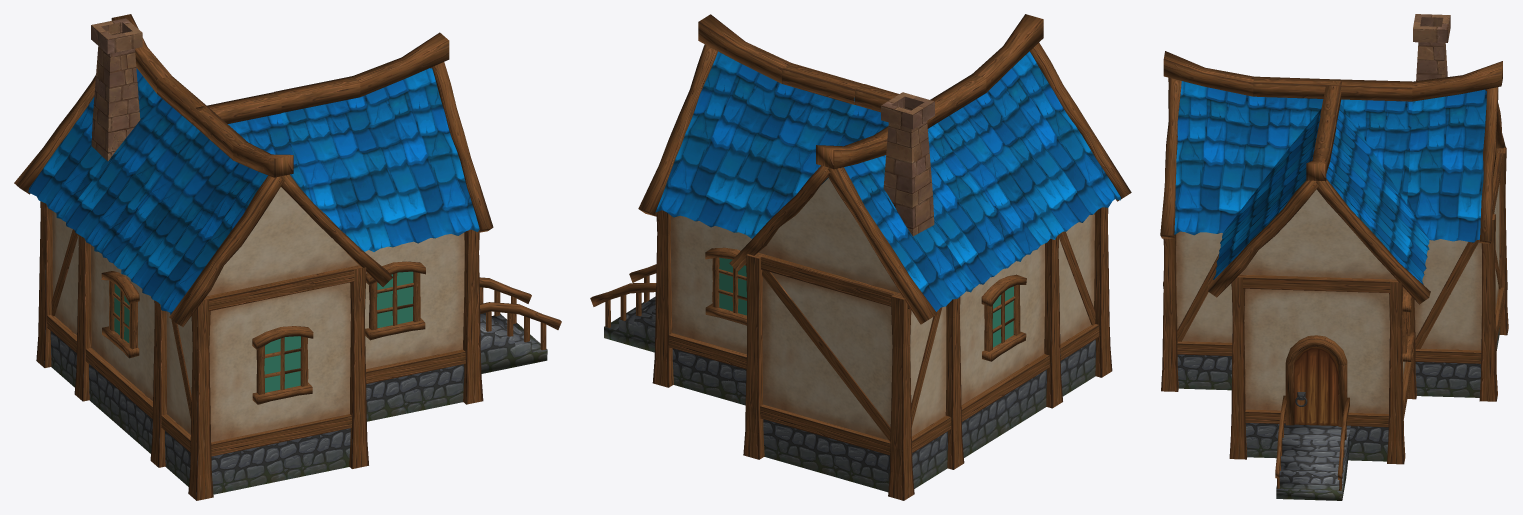
Rendered from casa4.fbx.
3 renders of one model, left to right at view 1: azimuth 30°, elevation 25°; view 2: azimuth 150°, elevation 25°; view 3: azimuth 270°, elevation 25°, orthographic. The views are drawn at different scales.
Parts seen in each view (by area): view 1: BH2; view 2: BH2; view 3: BH2.
Part boxes in pixels (x1,y1,x2,y2): BH2: (14, 14, 561, 500); BH2: (590, 14, 1131, 500); BH2: (1160, 14, 1508, 500).
Bounding box in the file's own units: 589 × 447 × 436.
